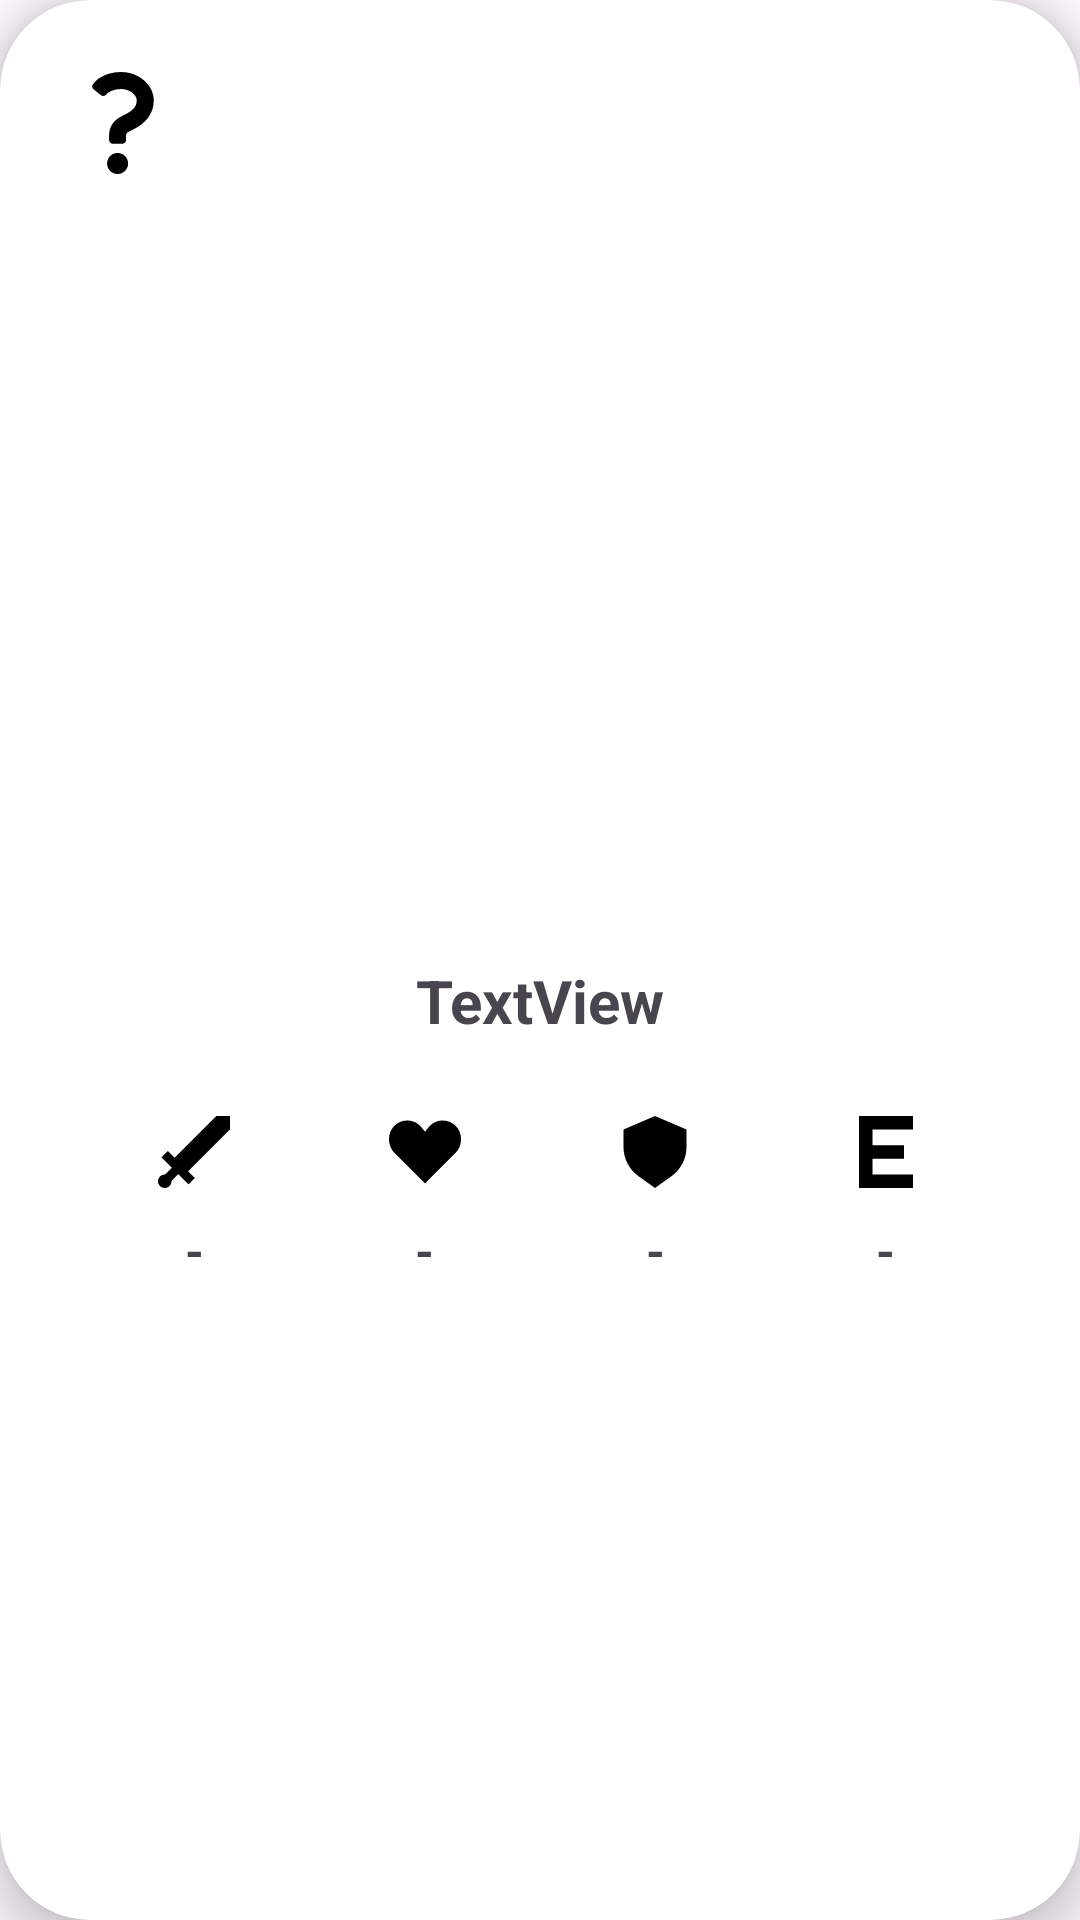

Icons on this 1080*1920 Android screen, each with its box as (x1, y1, x2, y2):
attack: (158, 1116, 230, 1188)
exp: (859, 1116, 913, 1188)
health: (389, 1120, 461, 1184)
shield: (623, 1116, 687, 1188)
